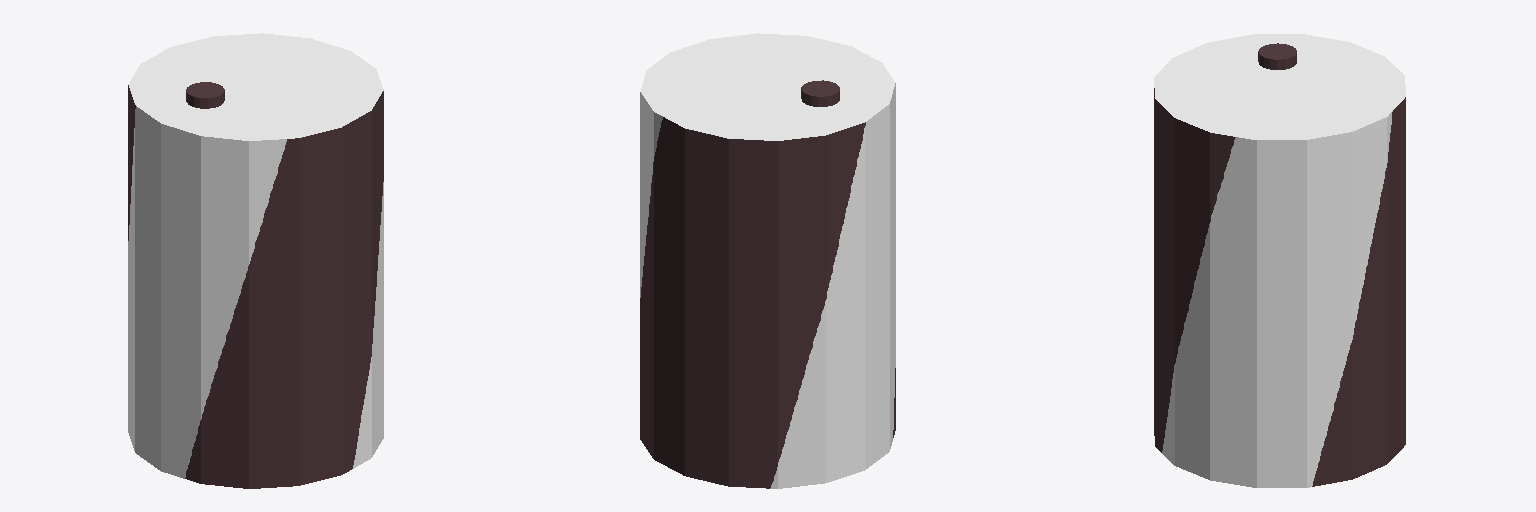
3 renders of one model, left to right at view 1: azimuth 30°, elevation 25°; view 2: azimuth 150°, elevation 25°; view 3: azimuth 270°, elevation 25°, orthographic.
Parts seen in each view (by area): view 1: lata_buena:pCylinder135groupgroup group6, group6 lata_buena:pCylinder136group1; view 2: lata_buena:pCylinder135groupgroup group6, group6 lata_buena:pCylinder136group1; view 3: lata_buena:pCylinder135groupgroup group6, group6 lata_buena:pCylinder136group1.
Boxes of the visible parts, box(x1,y1,x2,y2) form: lata_buena:pCylinder135groupgroup group6: box(128, 33, 383, 488); group6 lata_buena:pCylinder136group1: box(186, 82, 224, 108); lata_buena:pCylinder135groupgroup group6: box(640, 33, 895, 488); group6 lata_buena:pCylinder136group1: box(801, 80, 839, 106); lata_buena:pCylinder135groupgroup group6: box(1154, 34, 1405, 487); group6 lata_buena:pCylinder136group1: box(1258, 43, 1296, 69).
Size of the model in its own units: 0.5547 by 0.8714 by 0.5547.
1 materials, 1 textured.